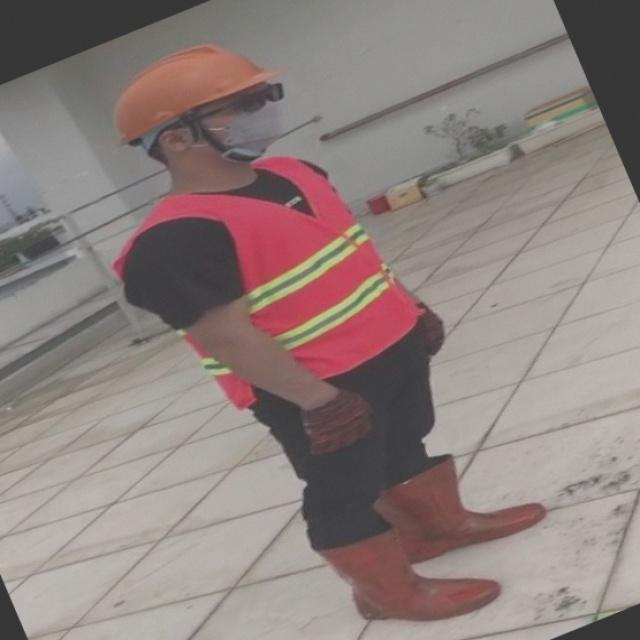Capacete: (115, 45, 282, 143)
Colete: (113, 157, 420, 378)
Oculos: (198, 83, 283, 117)
